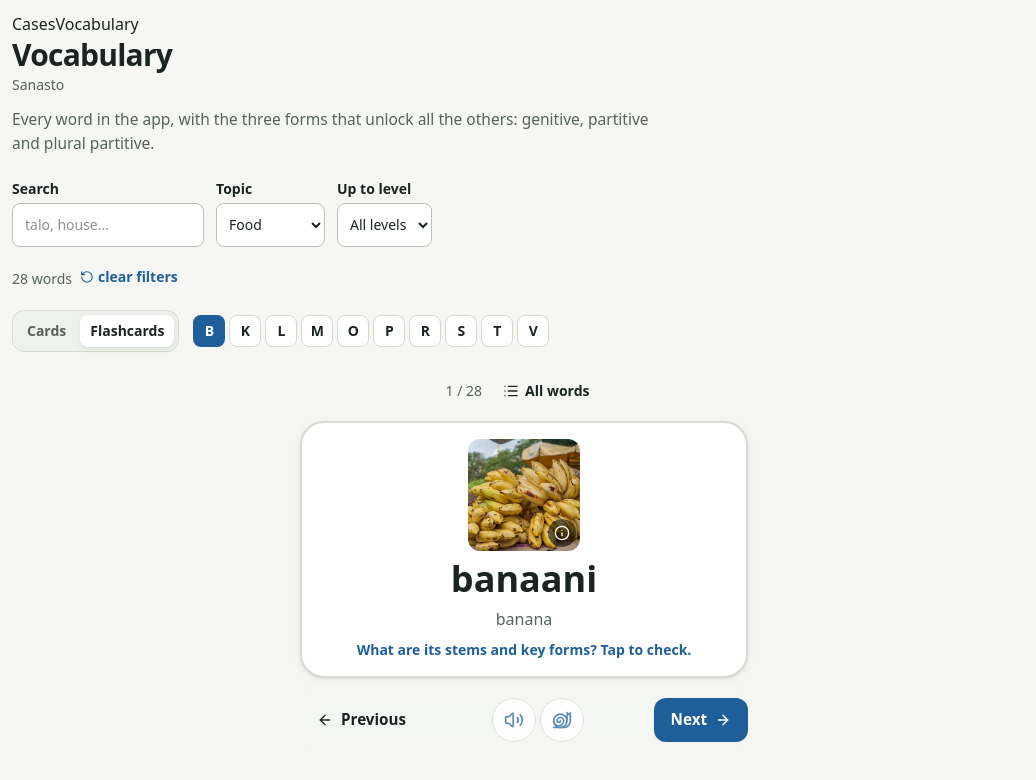
Test: Vocabulary: the place is kept › clearing the filters keeps the view and the word
The image size is (1036, 780).
Step 1. Click the button "Next" → (701, 720), box left=654, top=698, right=748, bottom=742
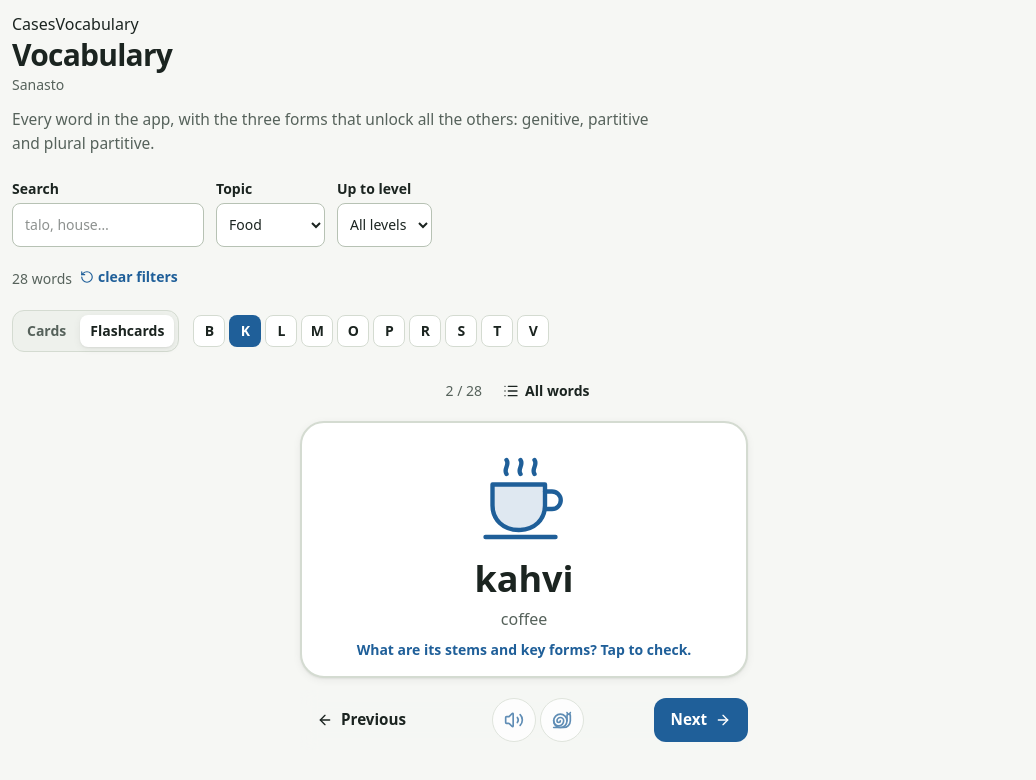
Step 2. Click the button "clear filters" → (129, 277), box left=80, top=267, right=178, bottom=287
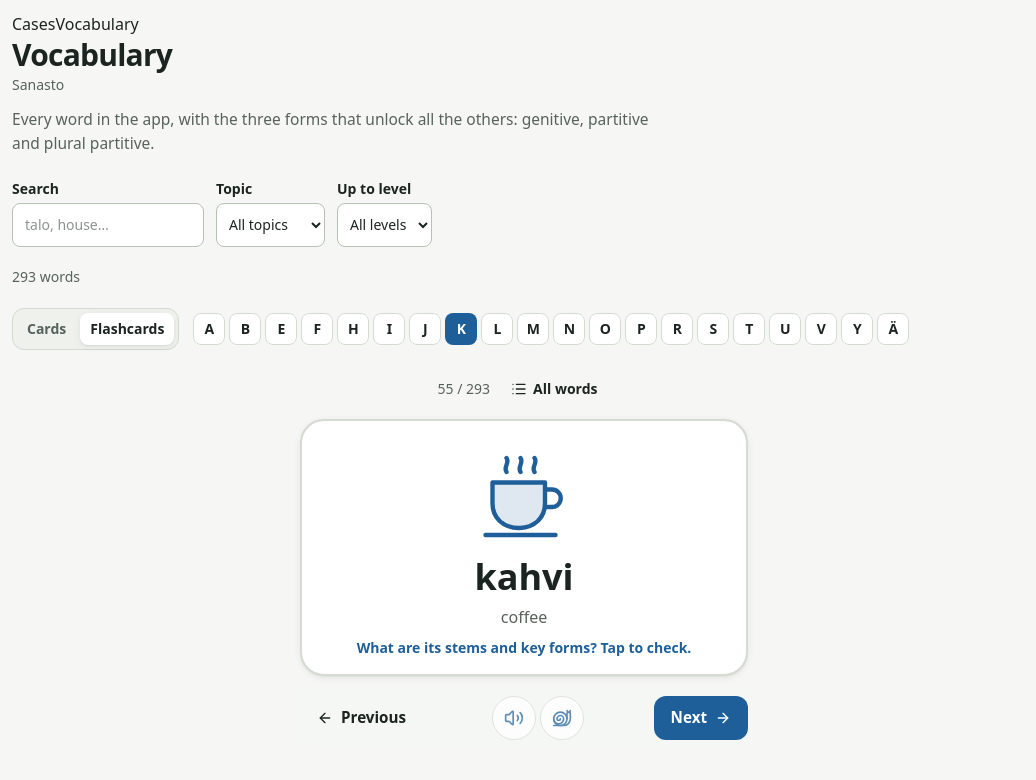
Now the dropdown labelled "Topic" shows "All topics", box left=216, top=203, right=325, bottom=247
